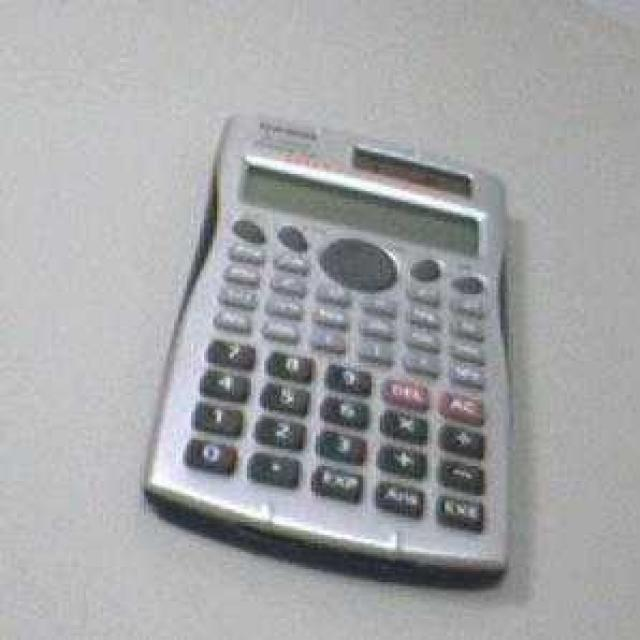Calculator: (140, 107, 516, 588)
